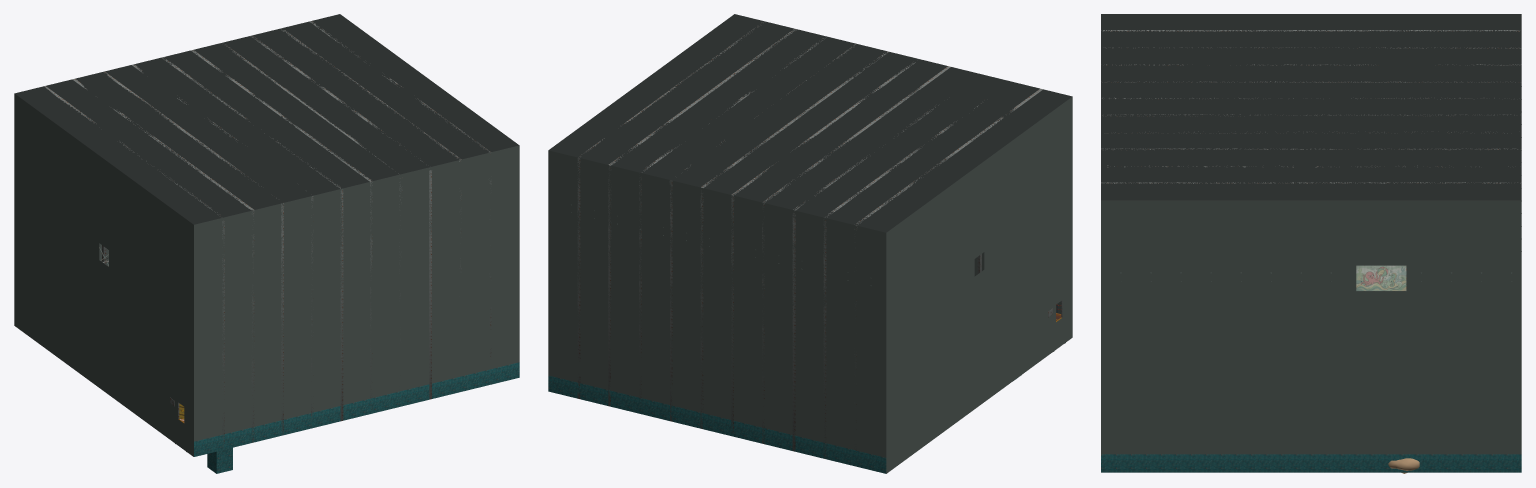
File: inseguimento_B_struttura.glb
The picture shows the model from 3 angles, left to right: view 1: azimuth 30°, elevation 25°; view 2: azimuth 150°, elevation 25°; view 3: azimuth 270°, elevation 25°; orthographic projection. The views are drawn at different scales.
Parts seen in each view (by area): view 1: ins_B_struttura; view 2: ins_B_struttura; view 3: ins_B_struttura, ins_B_cartellone_p3.
Boxes of the visible parts, x1,y1,x2,y2 form: ins_B_struttura: (14, 14, 519, 473); ins_B_struttura: (548, 14, 1072, 473); ins_B_struttura: (1101, 14, 1521, 473); ins_B_cartellone_p3: (1356, 265, 1406, 291).
Size of the model in its own units: 44.72 by 34.5 by 42.03.
Materials: 29 (20 with a texture image).
